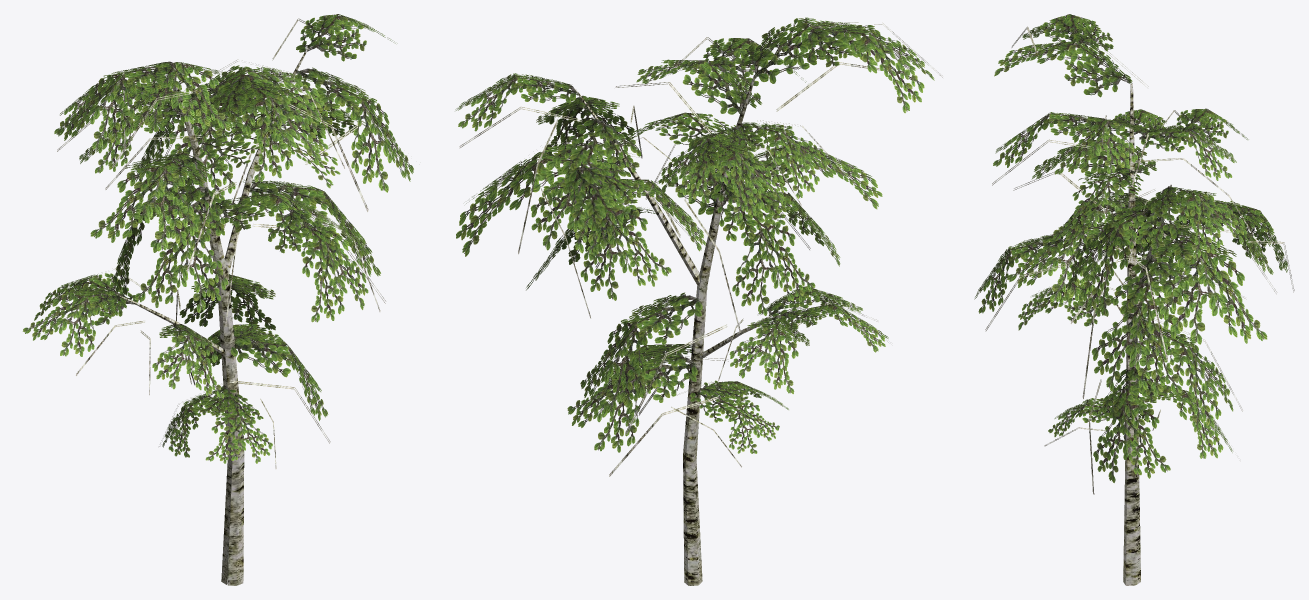
The model's file is flora-trees-euro-birch-tree.glb.
3 renders of one model, left to right at view 1: azimuth 30°, elevation 25°; view 2: azimuth 150°, elevation 25°; view 3: azimuth 270°, elevation 25°, orthographic. The views are drawn at different scales.
Visible parts, largest first — view 1: Cube; view 2: Cube; view 3: Cube.
Boxes of the visible parts, <box> form: Cube: <box>22,14,413,585</box>; Cube: <box>455,17,942,585</box>; Cube: <box>974,14,1294,585</box>.
Size of the model in its own units: 5.94 by 7.76 by 4.48.
1 material, 1 textured.
